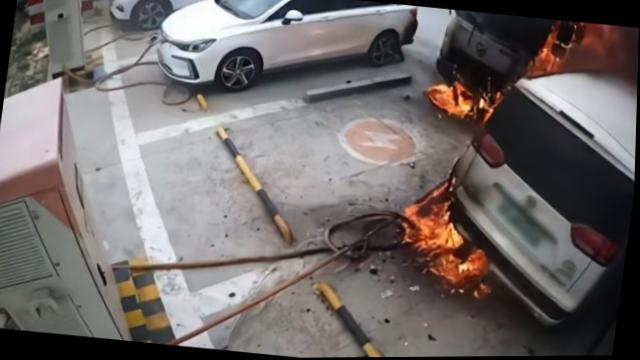fire: (388, 170, 509, 304), (532, 20, 620, 83), (427, 67, 506, 125)
